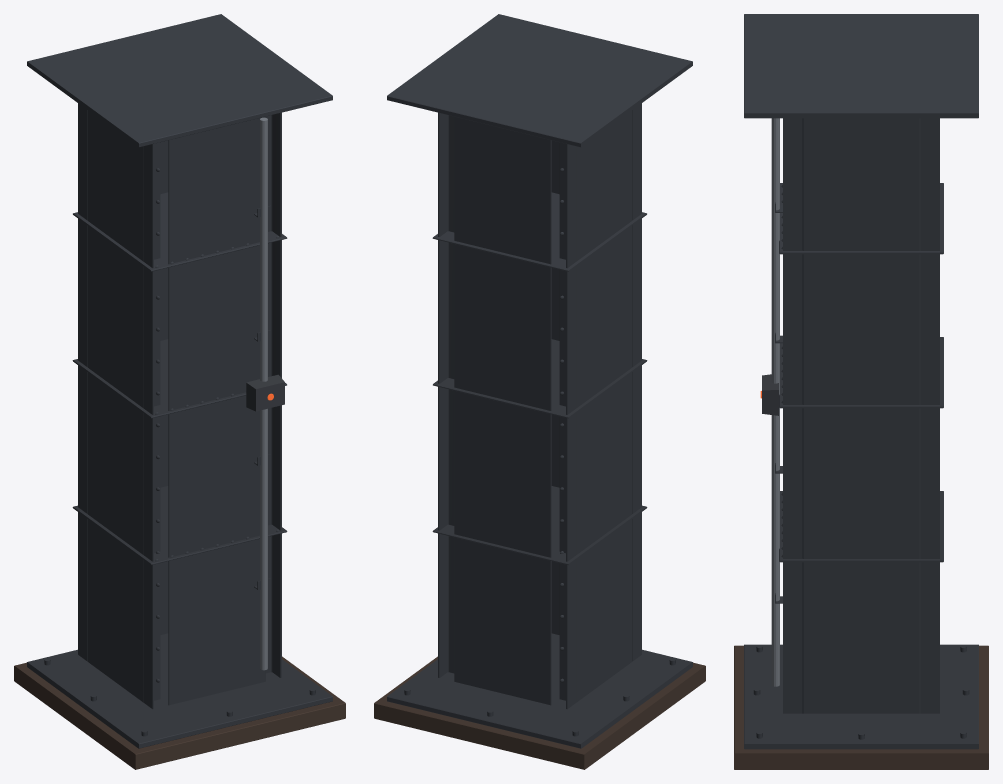
Rendered from foundry_pillar.glb.
3 renders of one model, left to right at view 1: azimuth 30°, elevation 25°; view 2: azimuth 150°, elevation 25°; view 3: azimuth 270°, elevation 25°, orthographic. The views are drawn at different scales.
Parts seen in each view (by area): view 1: pillar_web_0, pillar_web_3, pillar_cap, pillar_base_plate, pillar_angle_1, pillar_plinth, pillar_angle_0, pillar_angle_2, pillar_laps, pillar_conduit, pillar_web_2, pillar_junction; view 2: pillar_web_2, pillar_web_3, pillar_cap, pillar_base_plate, pillar_angle_2, pillar_angle_3, pillar_plinth, pillar_angle_1, pillar_laps, pillar_web_0; view 3: pillar_web_1, pillar_cap, pillar_base_plate, pillar_angle_0, pillar_angle_3, pillar_plinth, pillar_conduit, pillar_laps, pillar_junction.
Part boxes in pixels (<box>): pillar_web_0: <box>168,116,265,705</box>; pillar_web_3: <box>87,110,143,701</box>; pillar_cap: <box>27,14,332,147</box>; pillar_base_plate: <box>27,633,332,748</box>; pillar_angle_1: <box>143,142,160,709</box>; pillar_plinth: <box>14,656,345,769</box>; pillar_angle_0: <box>265,112,281,677</box>; pillar_angle_2: <box>78,103,87,661</box>; pillar_laps: <box>72,192,287,565</box>; pillar_conduit: <box>260,117,267,670</box>; pillar_web_2: <box>160,140,168,634</box>; pillar_junction: <box>246,374,284,411</box>; pillar_web_2: <box>454,116,551,705</box>; pillar_web_3: <box>576,110,632,701</box>; pillar_cap: <box>387,14,692,147</box>; pillar_base_plate: <box>387,633,692,748</box>; pillar_angle_2: <box>559,142,576,709</box>; pillar_angle_3: <box>438,112,454,677</box>; pillar_plinth: <box>374,656,705,769</box>; pillar_angle_1: <box>632,103,641,661</box>; pillar_laps: <box>432,192,647,565</box>; pillar_web_0: <box>551,140,559,634</box>; pillar_web_1: <box>802,118,920,713</box>; pillar_cap: <box>744,14,978,118</box>; pillar_base_plate: <box>744,644,978,749</box>; pillar_angle_0: <box>783,118,802,713</box>; pillar_angle_3: <box>920,118,939,713</box>; pillar_plinth: <box>734,645,988,769</box>; pillar_conduit: <box>771,118,779,686</box>; pillar_laps: <box>779,183,943,562</box>; pillar_junction: <box>762,374,778,415</box>.
Size of the model in its own units: 1.95 by 5.51 by 1.95.
